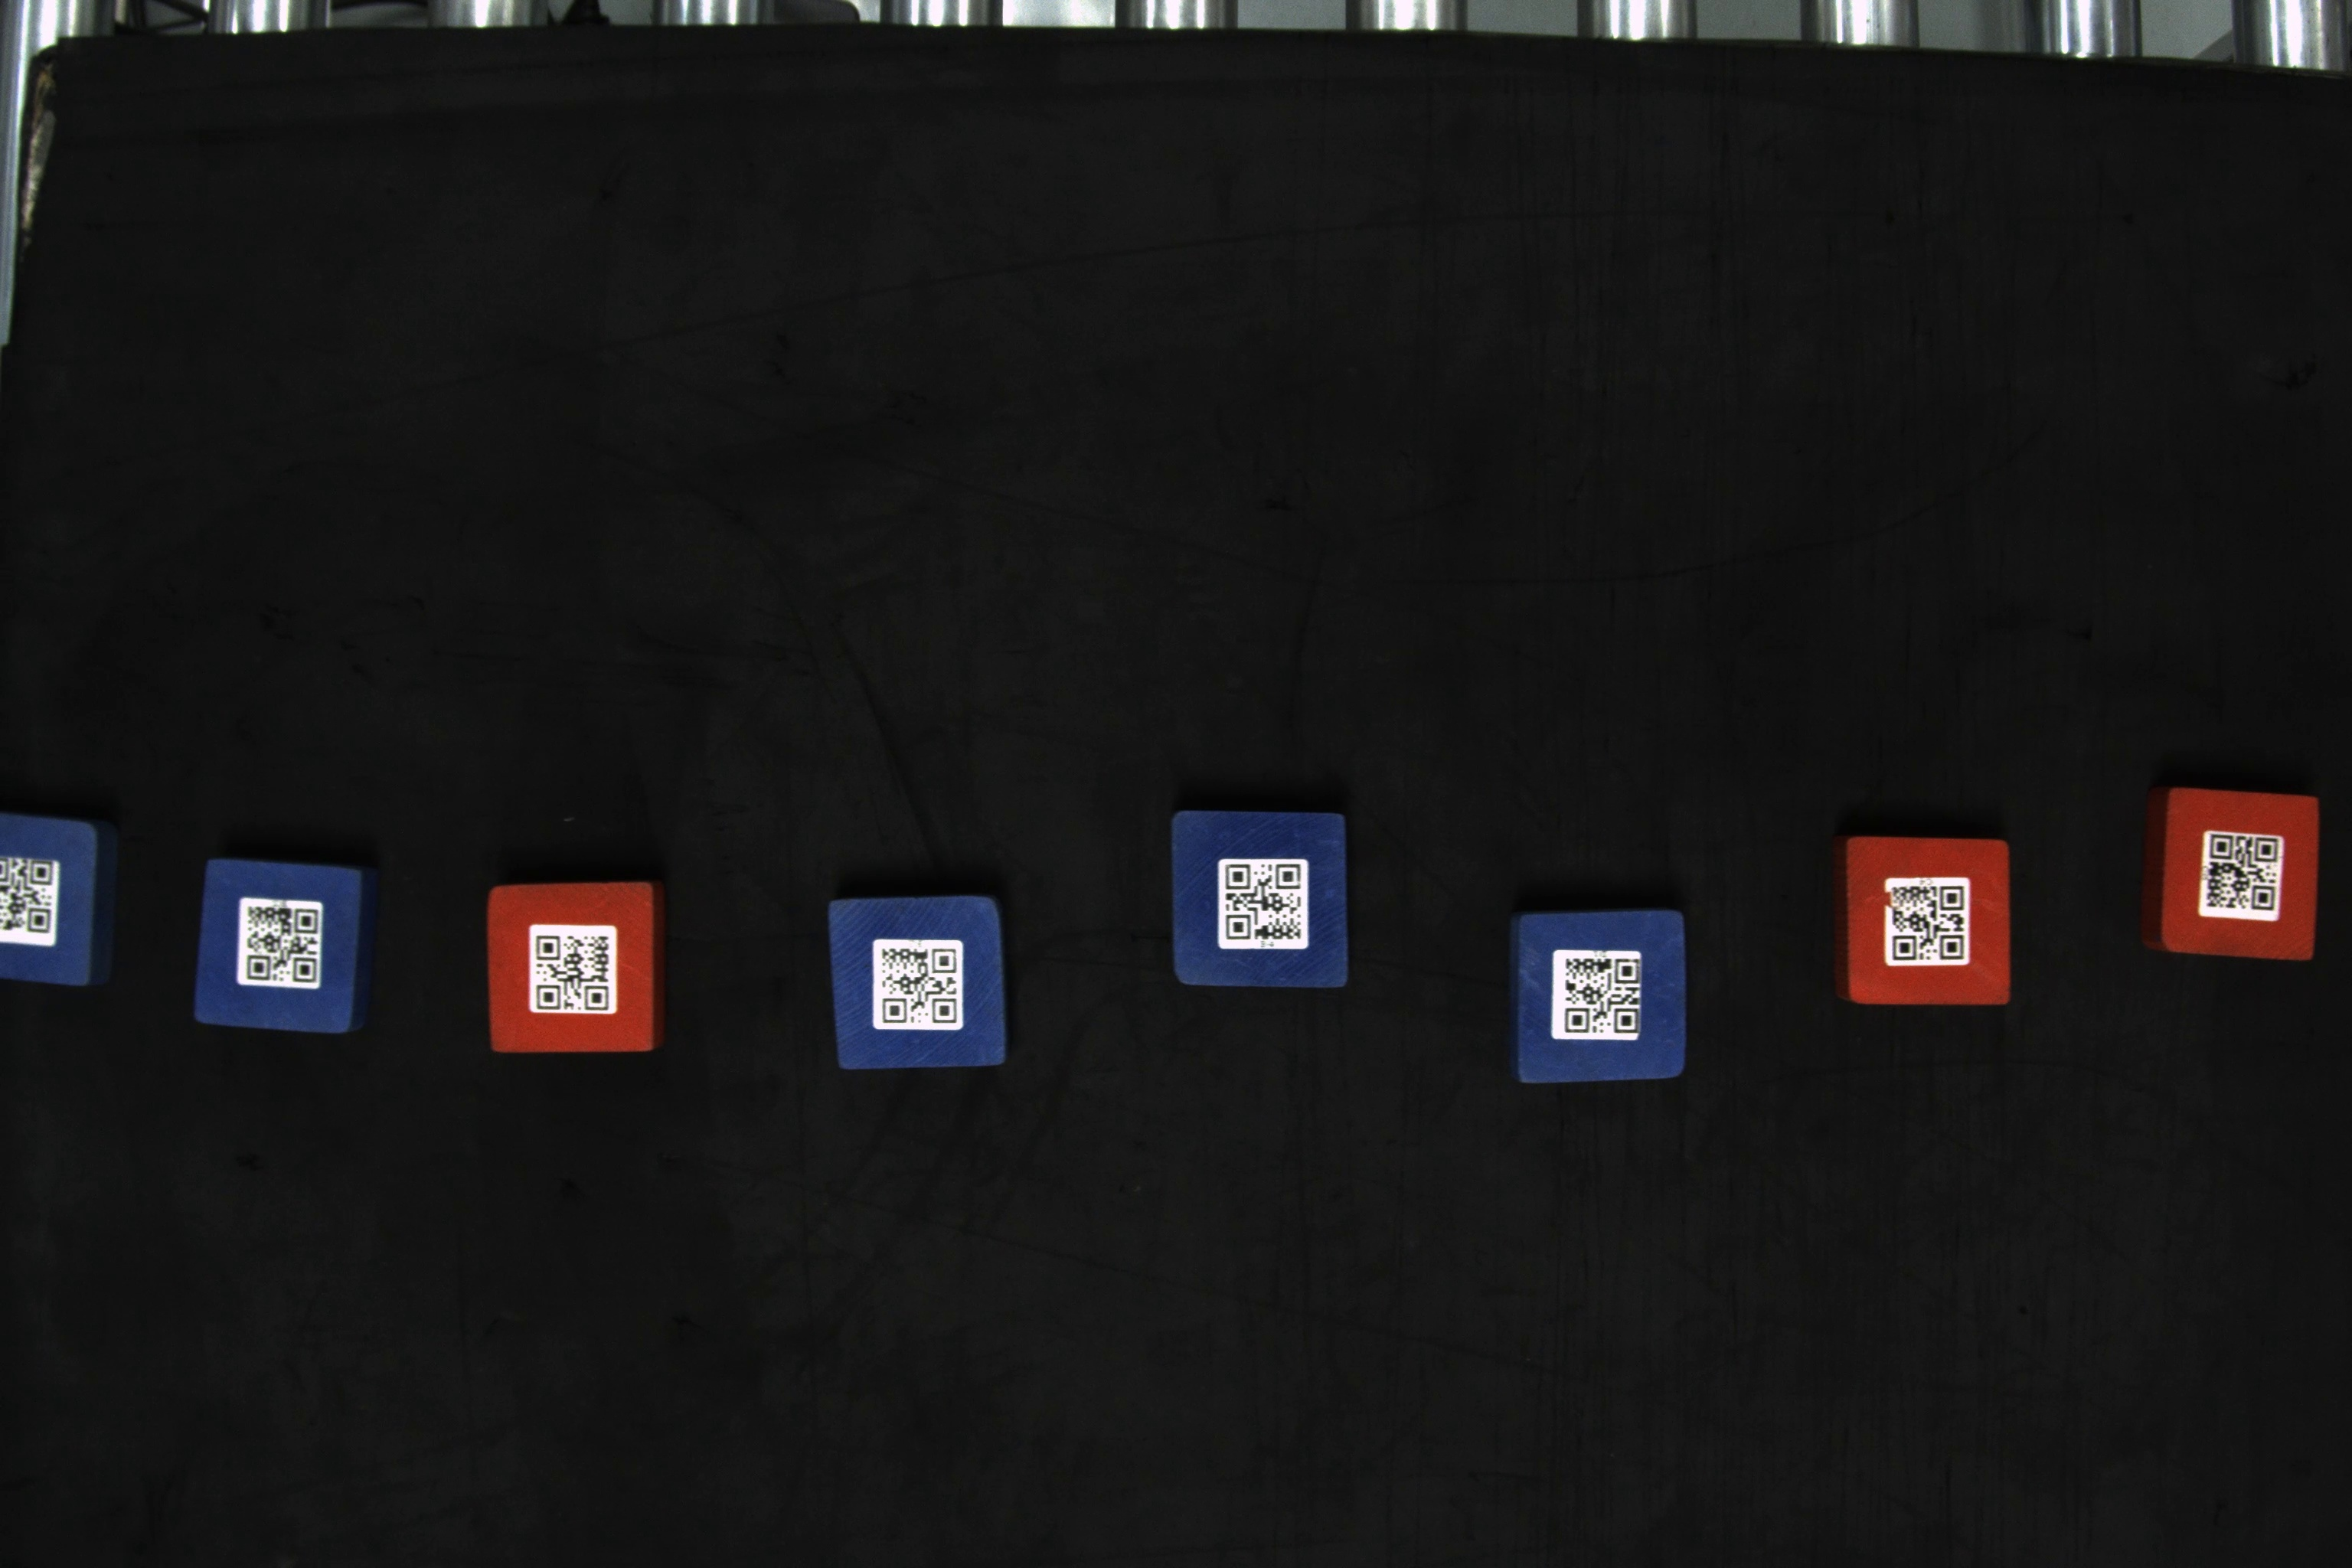wood: (821, 891, 1015, 1078), (187, 849, 380, 1036), (1164, 807, 1356, 992), (1830, 833, 2023, 1015), (2138, 779, 2324, 964), (1508, 910, 1701, 1085), (481, 880, 665, 1060), (3, 801, 119, 996)
